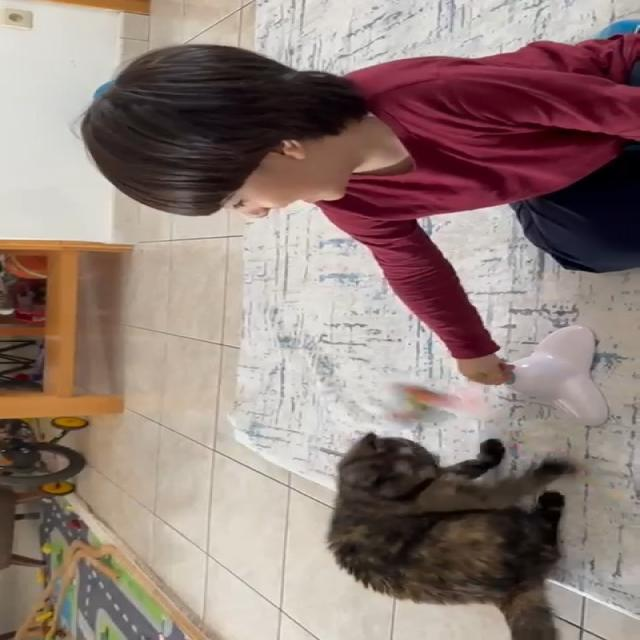authorized: (324, 431, 575, 639)
